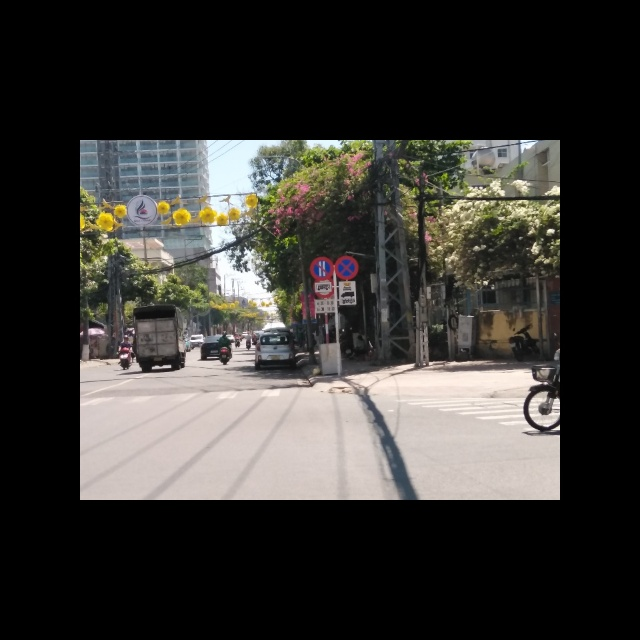Cấm dừng xe và đỗ xe: (335, 255, 359, 281)
Cấm đỗ xe ngày chẵn: (309, 255, 334, 280)
